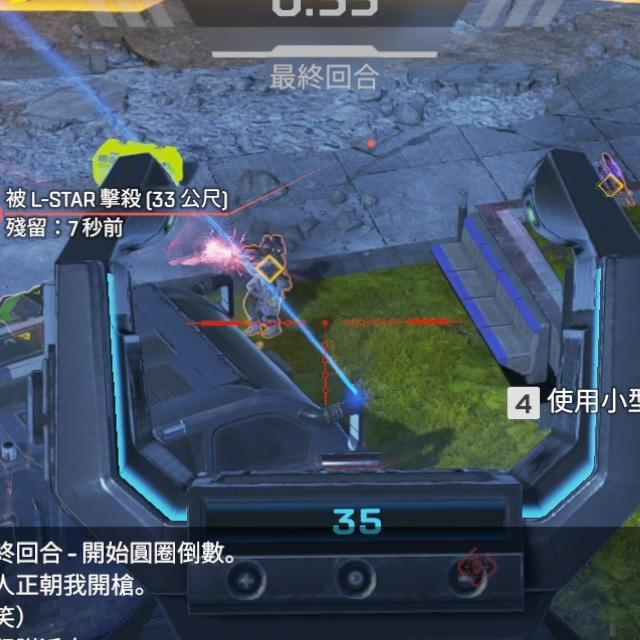avatar: (242, 232, 290, 341)
object: (253, 251, 287, 286)
